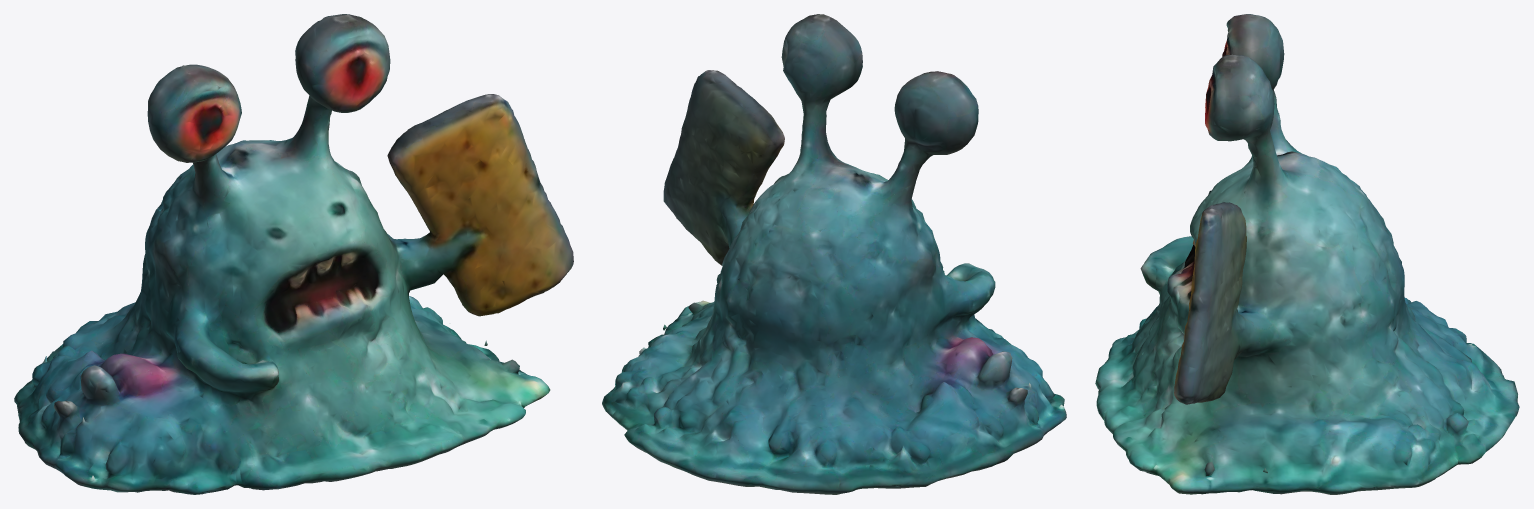
The model's file is slug.glb.
The picture shows the model from 3 angles, left to right: view 1: azimuth 30°, elevation 25°; view 2: azimuth 150°, elevation 25°; view 3: azimuth 270°, elevation 25°; orthographic projection. The views are drawn at different scales.
Parts seen in each view (by area): view 1: world; view 2: world; view 3: world.
Part boxes in pixels (x1,y1,x2,y2): world: [14, 14, 573, 494]; world: [602, 14, 1066, 494]; world: [1095, 14, 1519, 494].
Bounding box in the file's own units: 0.9862 × 0.8111 × 0.8349.
Materials: 1 (1 with a texture image).
